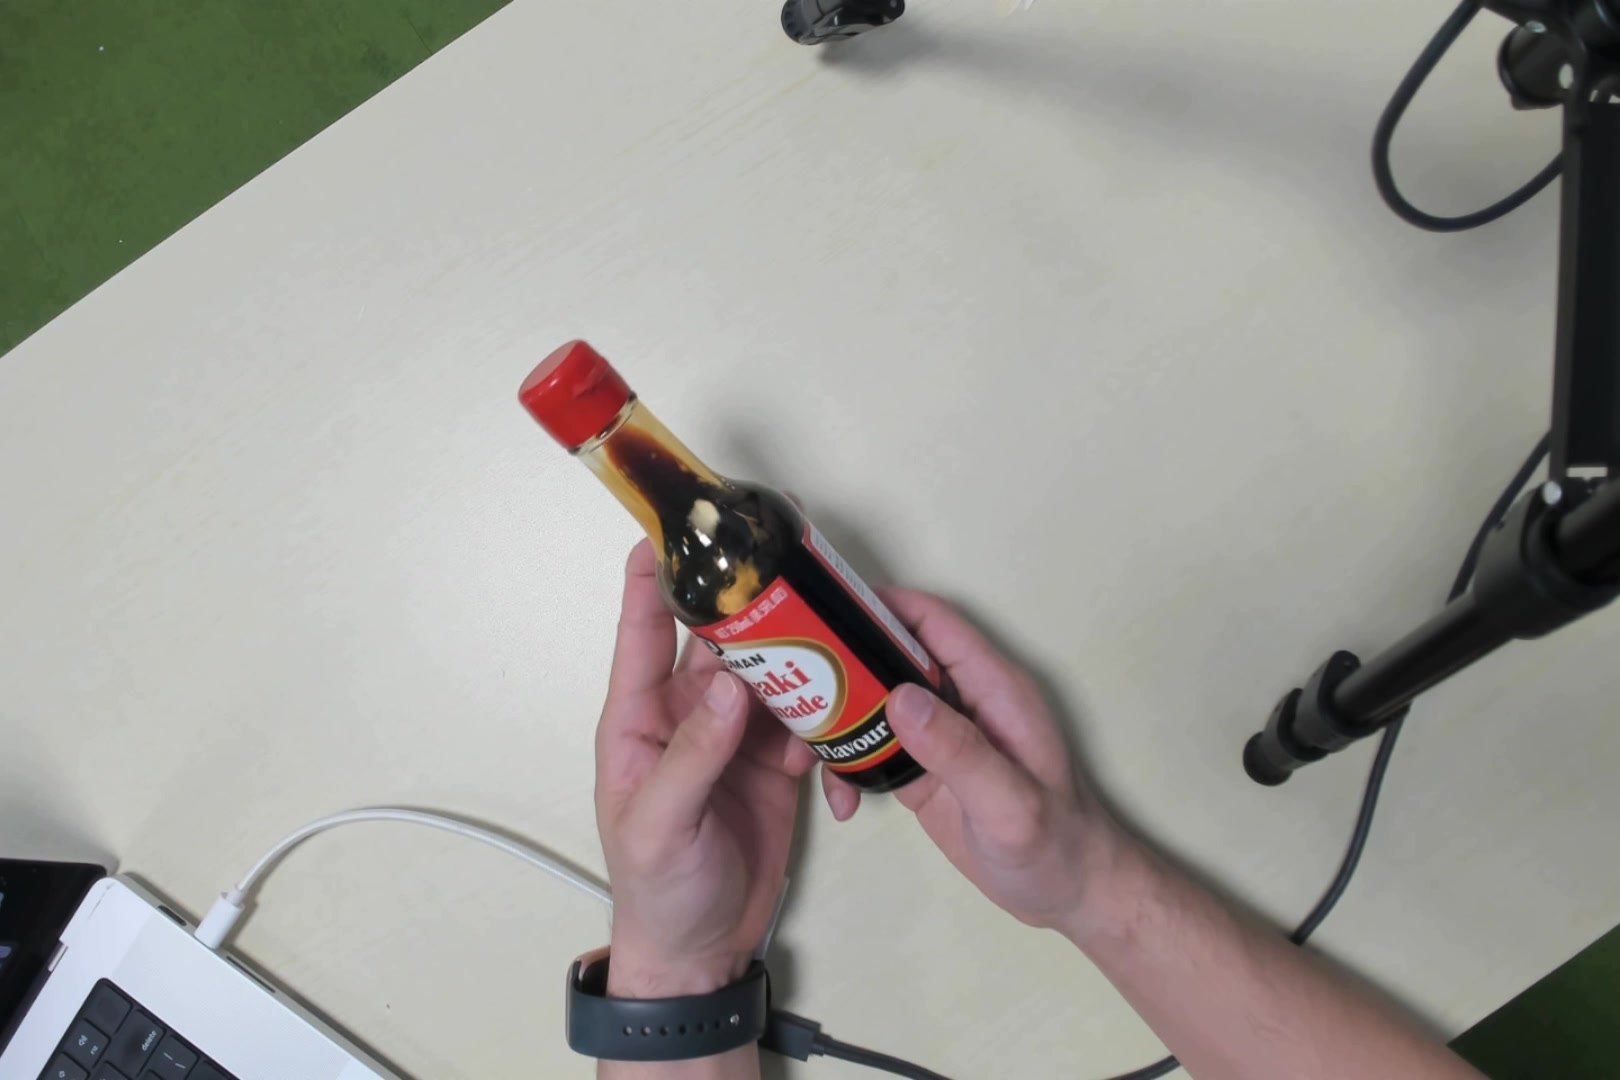OtherSauceDressingSoupbasePaste_200-299g_NonHalal_NonHealthy: (589, 395, 953, 777)
